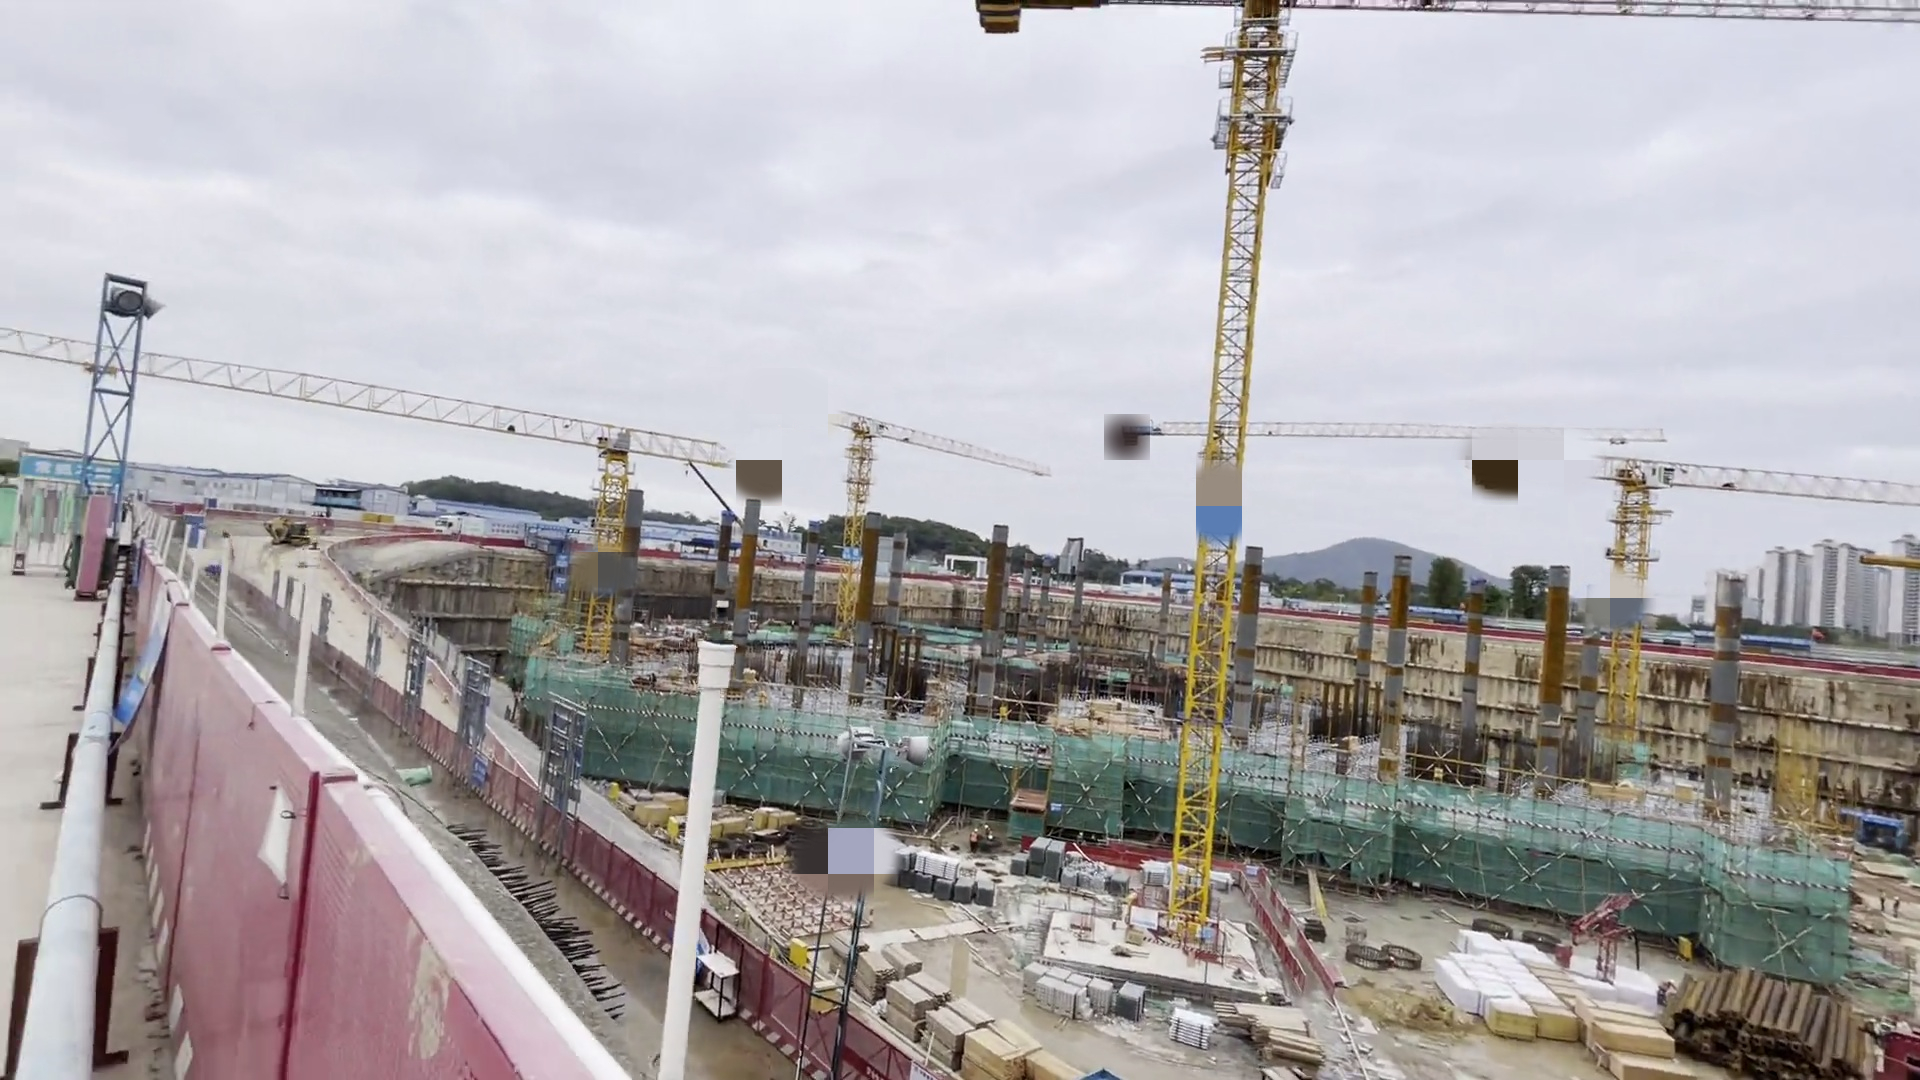board: (1581, 1000, 1677, 1058), (1532, 957, 1604, 1007), (1491, 997, 1542, 1046), (1532, 998, 1580, 1043), (1610, 1058, 1700, 1077)
brick: (1025, 952, 1142, 1035)
ebox: (589, 774, 651, 831), (774, 920, 828, 977), (649, 822, 716, 864)
fence: (202, 564, 916, 1077), (103, 541, 227, 1062), (1216, 818, 1382, 1022)
scaffold: (887, 847, 996, 902), (1160, 1004, 1228, 1077), (1138, 857, 1240, 890), (1006, 836, 1062, 887), (1068, 861, 1131, 895)
slogan: (117, 591, 165, 737), (32, 444, 138, 491), (468, 750, 488, 795), (837, 543, 865, 564), (556, 550, 567, 589)
wood: (1218, 989, 1346, 1073), (1002, 1015, 1084, 1080), (953, 1029, 1025, 1076), (887, 981, 932, 1048), (924, 1006, 967, 1067), (831, 928, 869, 985), (855, 951, 891, 1006), (945, 993, 1000, 1023), (887, 938, 919, 982), (920, 971, 957, 1009)
